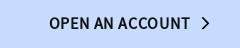fake_button: (43, 9, 211, 42)
